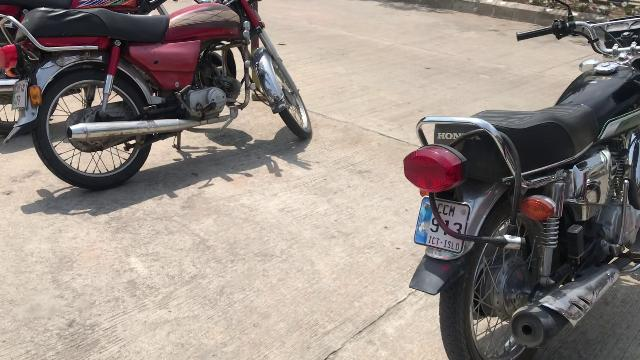plate: (408, 193, 472, 257)
